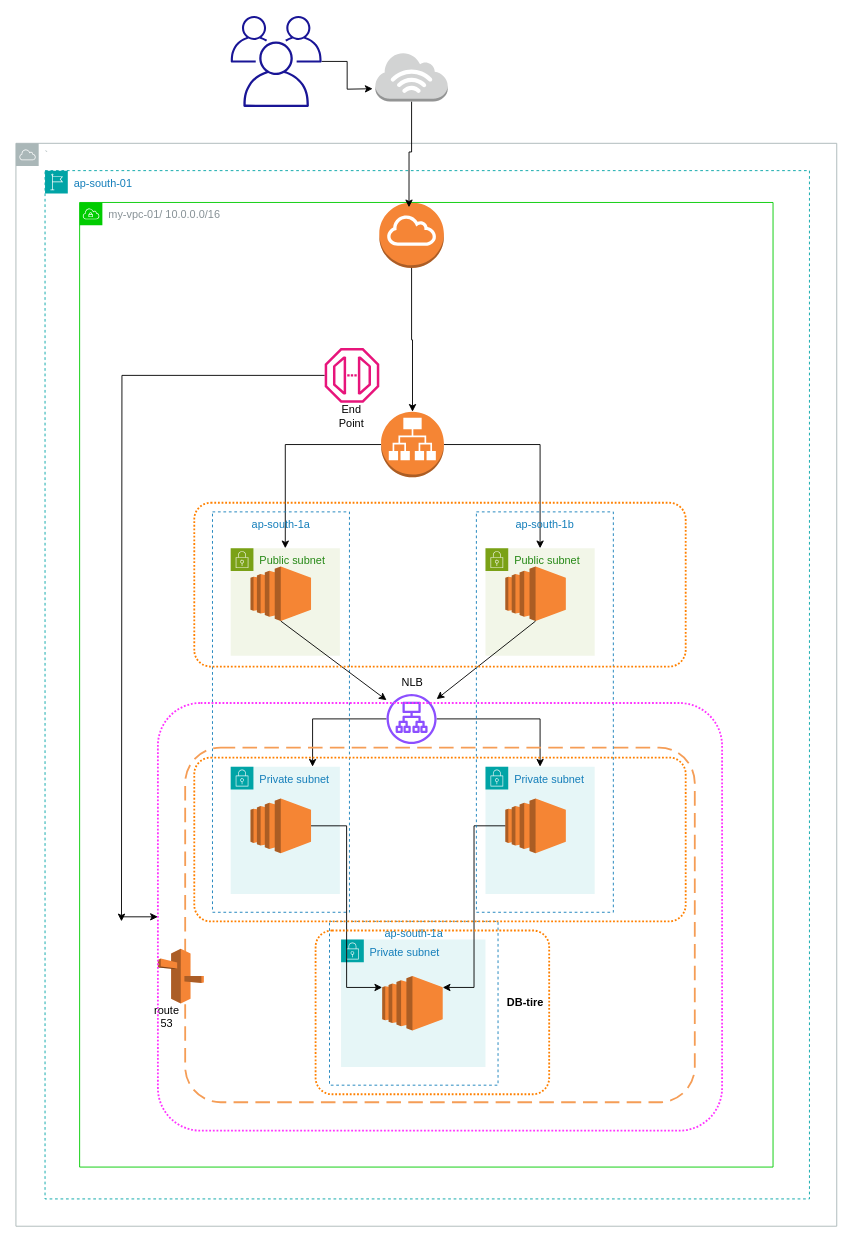
This 853x1242 diagram has some shape labels left out. Here are the shapes that lost their labels. From the top down, the box of each, then its label:
(230, 15, 321, 106): users
(378, 202, 444, 268): IG
(380, 411, 444, 477): ALB
(193, 501, 686, 667): web-tire
(193, 756, 686, 922): app-tire
